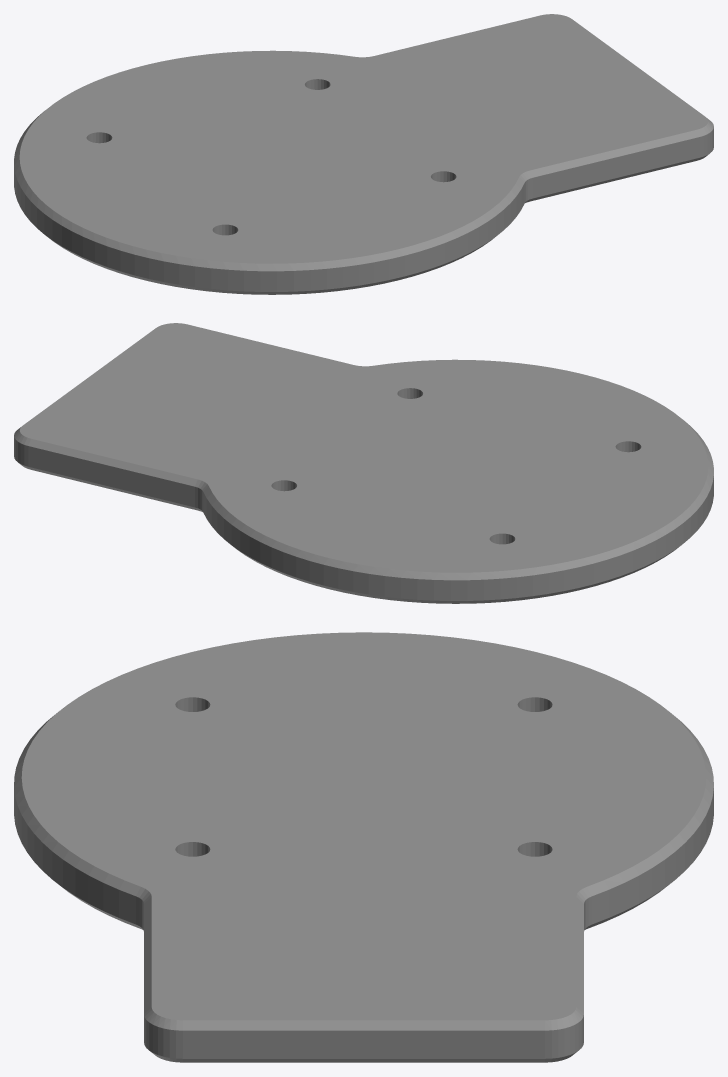
3 views of the same model, one above another, from view 1: azimuth 30°, elevation 25°; view 2: azimuth 150°, elevation 25°; view 3: azimuth 270°, elevation 25° (orthographic). The views are drawn at different scales.
Parts seen in each view (by area): view 1: Base_Link; view 2: Base_Link; view 3: Base_Link.
Boxes of the visible parts, x1,y1,x2,y2 form: Base_Link: (14, 14, 713, 294); Base_Link: (14, 323, 713, 603); Base_Link: (14, 632, 713, 1062).
Size of the model in its own units: 0.12 by 0.09 by 0.006.
Materials: 1 (1 with a texture image).
